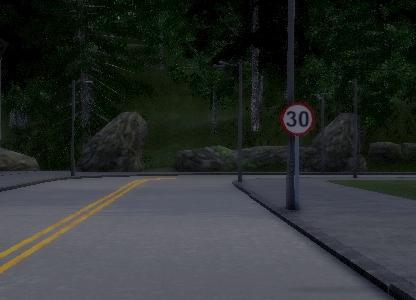Speed_30: (282, 97, 316, 141)
